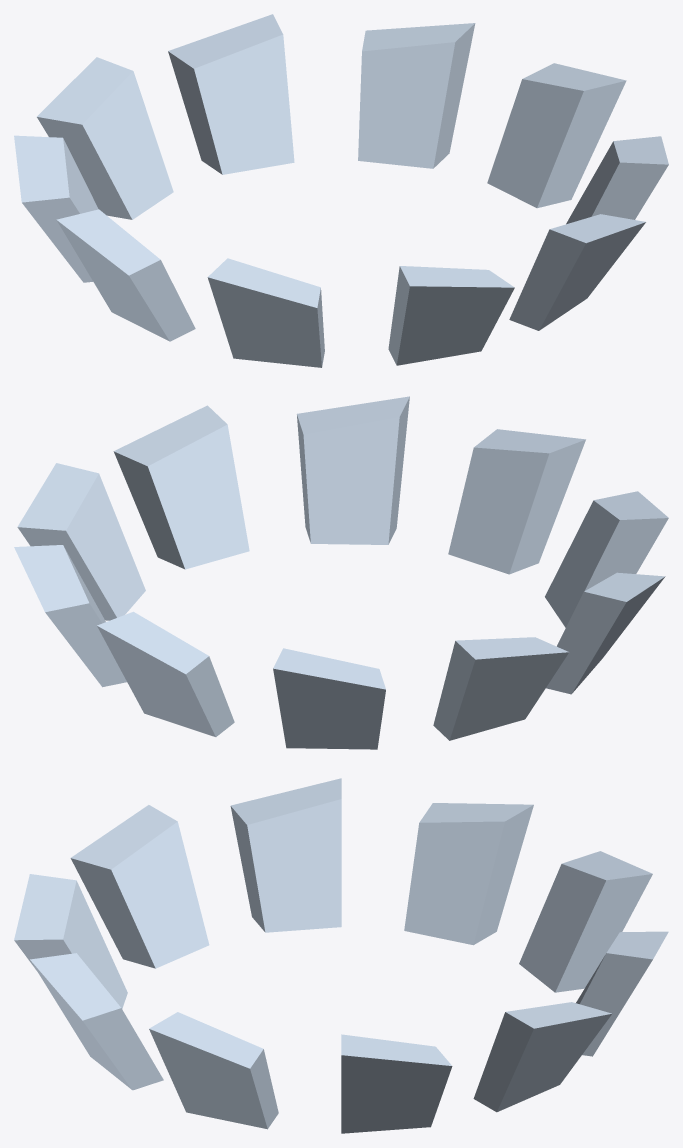
Rendered from Hava_sicrama.fbx.
3 renders of one model, top to bottom at view 1: azimuth 30°, elevation 25°; view 2: azimuth 150°, elevation 25°; view 3: azimuth 270°, elevation 25°, orthographic.
Parts seen in each view (by area): view 1: Hava_sicrama; view 2: Hava_sicrama; view 3: Hava_sicrama.
Part boxes in pixels (left/top/right/bottom): Hava_sicrama: left=14, top=14, right=668, bottom=367; Hava_sicrama: left=14, top=396, right=668, bottom=749; Hava_sicrama: left=14, top=778, right=668, bottom=1133.
Bounding box in the file's own units: 1.24 × 0.22 × 1.24.
